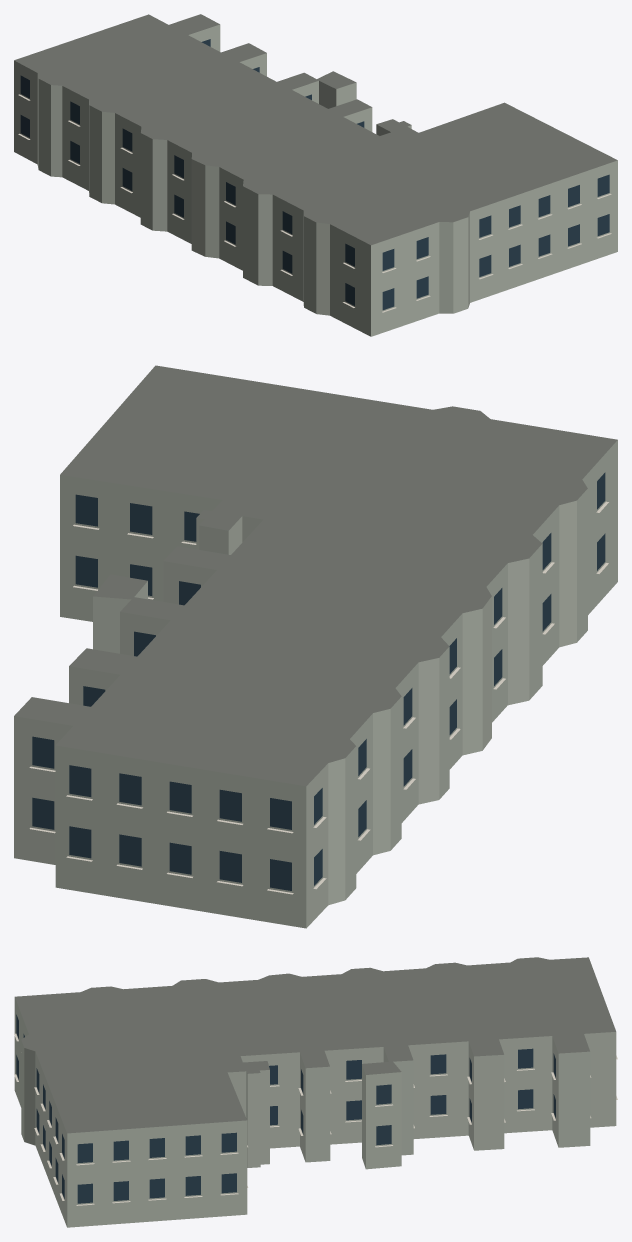
3 views of the same model, one above another, from view 1: azimuth 30°, elevation 25°; view 2: azimuth 150°, elevation 25°; view 3: azimuth 270°, elevation 25° (orthographic). The views are drawn at different scales.
Parts seen in each view (by area): view 1: Footprint 0, Inferred window bays, Window sills; view 2: Footprint 0, Inferred window bays, Window sills; view 3: Footprint 0, Inferred window bays, Window sills.
Boxes of the visible parts, bbox=[...] form: Footprint 0: bbox=[14, 14, 617, 336]; Inferred window bays: bbox=[20, 39, 609, 310]; Window sills: bbox=[18, 94, 611, 312]; Footprint 0: bbox=[14, 365, 617, 928]; Inferred window bays: bbox=[32, 472, 605, 890]; Window sills: bbox=[29, 501, 608, 894]; Footprint 0: bbox=[14, 957, 616, 1227]; Inferred window bays: bbox=[16, 1014, 555, 1203]; Window sills: bbox=[14, 1033, 617, 1205].
Size of the model in its own units: 33.12 by 8.21 by 47.68.
